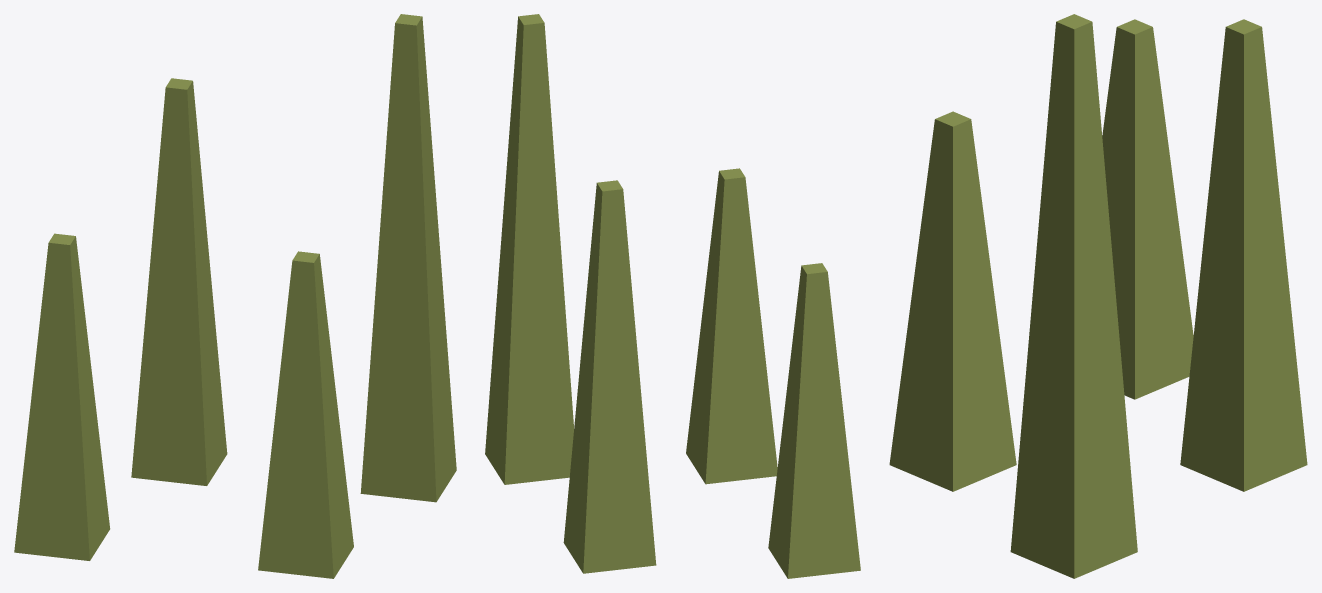
The model's file is grass_tuft_small.glb.
The picture shows the model from 3 angles, left to right: view 1: azimuth 30°, elevation 25°; view 2: azimuth 150°, elevation 25°; view 3: azimuth 270°, elevation 25°; orthographic projection. The views are drawn at different scales.
Visible parts, largest first — view 1: grass_tuft_small; view 2: grass_tuft_small; view 3: grass_tuft_small.
Part boxes in pixels (box(x1,y1,x2,y2)): grass_tuft_small: box(14, 14, 456, 578); grass_tuft_small: box(485, 14, 860, 578); grass_tuft_small: box(889, 14, 1307, 578).
Size of the model in its own units: 0.455 by 0.483 by 0.345.
